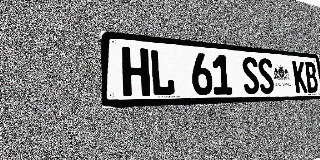1: (211, 54, 232, 95)
6: (190, 52, 213, 95)
B: (304, 62, 319, 93)
H: (121, 47, 150, 97)
K: (292, 61, 308, 93)
L: (149, 49, 175, 96)
S: (241, 56, 260, 94), (257, 58, 275, 94)
